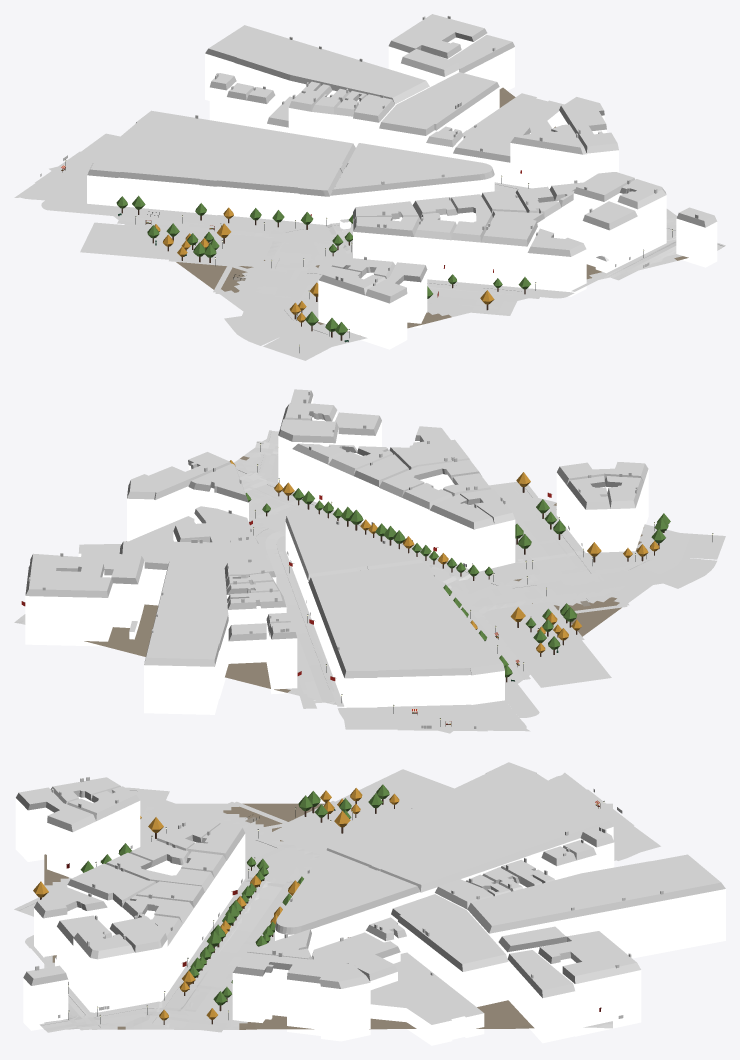
Rendered from zone_B2.glb.
3 renders of one model, top to bottom at view 1: azimuth 30°, elevation 25°; view 2: azimuth 150°, elevation 25°; view 3: azimuth 270°, elevation 25°, orthographic. The views are drawn at different scales.
Visible parts, largest first — view 1: zone_B2_batiments, zone_B2_sol_NOCOL, zone_B2_terrain, zone_B2_decor_NOCOL; view 2: zone_B2_batiments, zone_B2_sol_NOCOL, zone_B2_terrain, zone_B2_decor_NOCOL; view 3: zone_B2_batiments, zone_B2_sol_NOCOL, zone_B2_terrain, zone_B2_decor_NOCOL.
Boxes of the visible parts, box(x1,y1,x2,y2) form: zone_B2_batiments: box(87, 14, 717, 349); zone_B2_sol_NOCOL: box(14, 133, 725, 360); zone_B2_terrain: box(49, 87, 688, 346); zone_B2_decor_NOCOL: box(65, 159, 672, 352); zone_B2_batiments: box(25, 389, 648, 714); zone_B2_sol_NOCOL: box(237, 430, 725, 731); zone_B2_terrain: box(14, 439, 687, 733); zone_B2_decor_NOCOL: box(229, 443, 713, 726); zone_B2_batiments: box(15, 762, 725, 1045); zone_B2_sol_NOCOL: box(14, 769, 660, 1032); zone_B2_terrain: box(44, 803, 612, 1029); zone_B2_decor_NOCOL: box(33, 784, 604, 1024).
Size of the model in its own units: 239 by 29.21 by 263.
